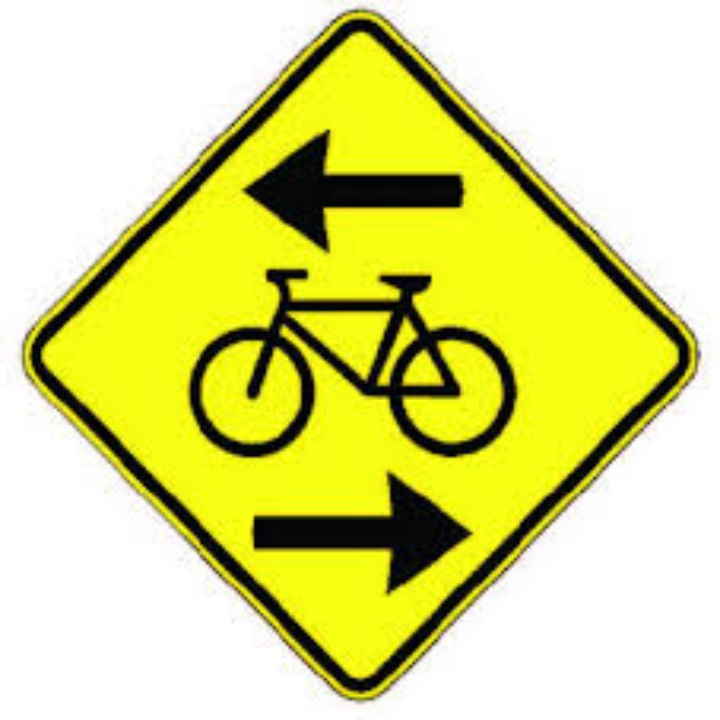bicycle: (189, 263, 519, 463)
